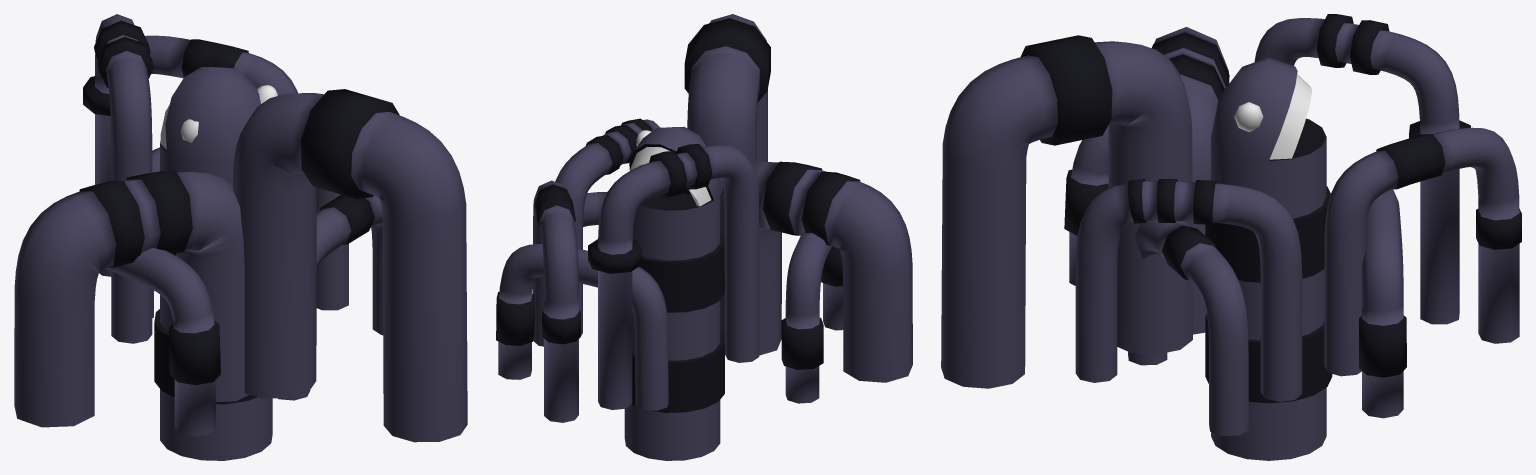
The model's file is worms.fbx.
The picture shows the model from 3 angles, left to right: view 1: azimuth 30°, elevation 25°; view 2: azimuth 150°, elevation 25°; view 3: azimuth 270°, elevation 25°; orthographic projection. The views are drawn at different scales.
Visible parts, largest first — view 1: BezierCurve.007, BezierCurve.005, Sphere, BezierCurve.001, BezierCurve.004, BezierCurve.003, BezierCurve.009, BezierCurve.002, Sphere.001; view 2: BezierCurve.005, Sphere, BezierCurve.001, BezierCurve.007, BezierCurve.006, BezierCurve.003, BezierCurve.004, BezierCurve.002, BezierCurve.009; view 3: BezierCurve.007, Sphere, BezierCurve.002, BezierCurve.003, BezierCurve.001, BezierCurve.009, BezierCurve.006, BezierCurve.005, BezierCurve.004, Sphere.001.
Boxes of the visible parts, x1=… form: BezierCurve.007: x1=233, y1=89, x2=467, y2=442; BezierCurve.005: x1=14, y1=171, x2=248, y2=427; Sphere: x1=154, y1=67, x2=272, y2=460; BezierCurve.001: x1=83, y1=14, x2=153, y2=343; BezierCurve.004: x1=105, y1=248, x2=220, y2=436; BezierCurve.003: x1=145, y1=35, x2=297, y2=95; BezierCurve.009: x1=278, y1=194, x2=383, y2=400; BezierCurve.002: x1=316, y1=187, x2=348, y2=310; Sphere.001: x1=181, y1=85, x2=277, y2=142; BezierCurve.005: x1=720, y1=161, x2=912, y2=382; Sphere: x1=624, y1=126, x2=724, y2=460; BezierCurve.001: x1=588, y1=144, x2=759, y2=409; BezierCurve.007: x1=684, y1=14, x2=770, y2=195; BezierCurve.006: x1=496, y1=244, x2=668, y2=410; BezierCurve.003: x1=533, y1=180, x2=580, y2=422; BezierCurve.004: x1=781, y1=232, x2=843, y2=403; BezierCurve.002: x1=555, y1=118, x2=660, y2=338; BezierCurve.009: x1=583, y1=191, x2=607, y2=226; BezierCurve.007: x1=941, y1=35, x2=1192, y2=388; Sphere: x1=1205, y1=57, x2=1332, y2=460; BezierCurve.002: x1=1075, y1=179, x2=1302, y2=401; BezierCurve.003: x1=1324, y1=127, x2=1521, y2=376; BezierCurve.001: x1=1254, y1=14, x2=1470, y2=324; BezierCurve.009: x1=1128, y1=220, x2=1248, y2=435; BezierCurve.006: x1=1359, y1=189, x2=1406, y2=418; BezierCurve.005: x1=1152, y1=27, x2=1229, y2=334; BezierCurve.004: x1=1064, y1=126, x2=1108, y2=285; Sphere.001: x1=1234, y1=102, x2=1263, y2=131.
Size of the model in its own units: 578 by 541 by 694.
